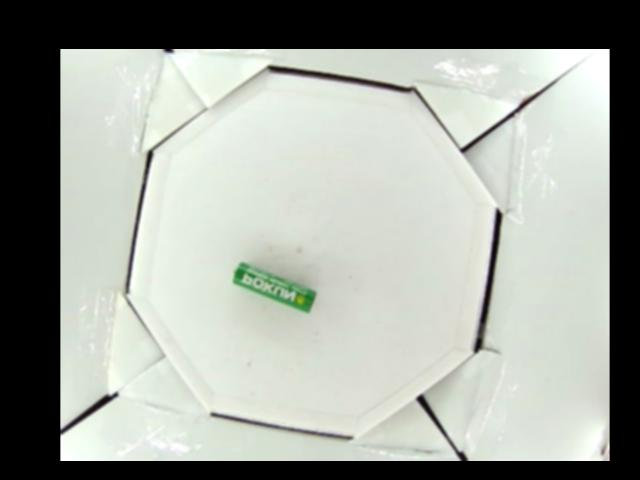Battery: (230, 262, 316, 309)
